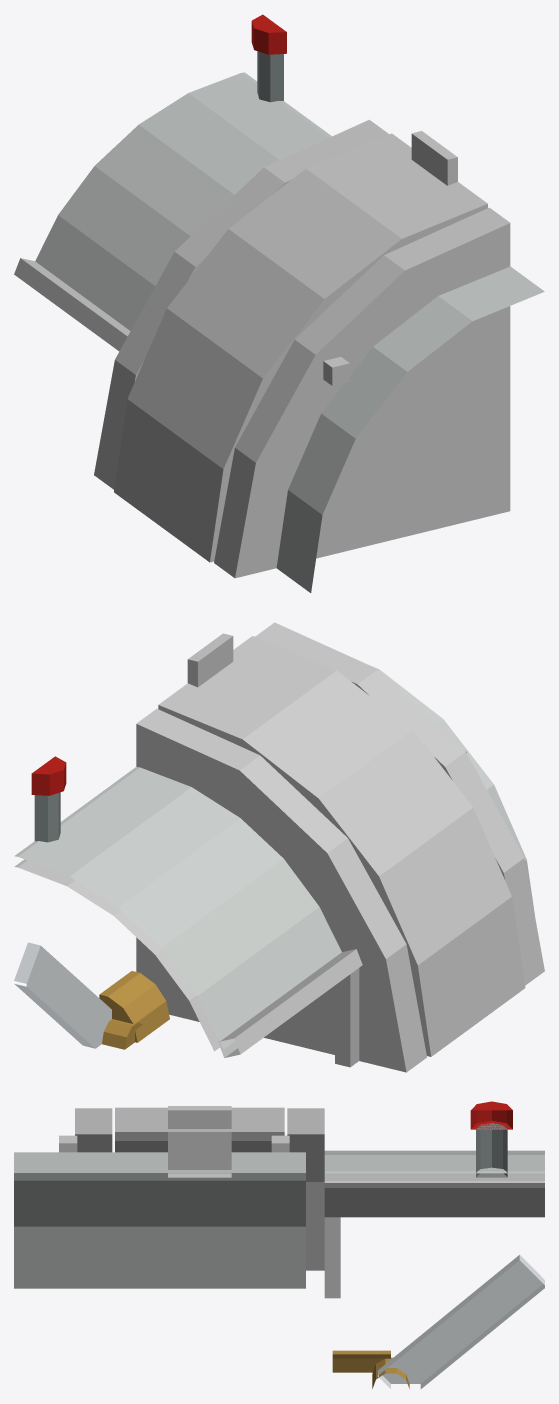
Rendered from cell_90.obj.
3 renders of one model, top to bottom at view 1: azimuth 30°, elevation 25°; view 2: azimuth 150°, elevation 25°; view 3: azimuth 270°, elevation 25°, orthographic. The views are drawn at different scales.
Size of the model in its own units: 0.535 by 0.58 by 1.
